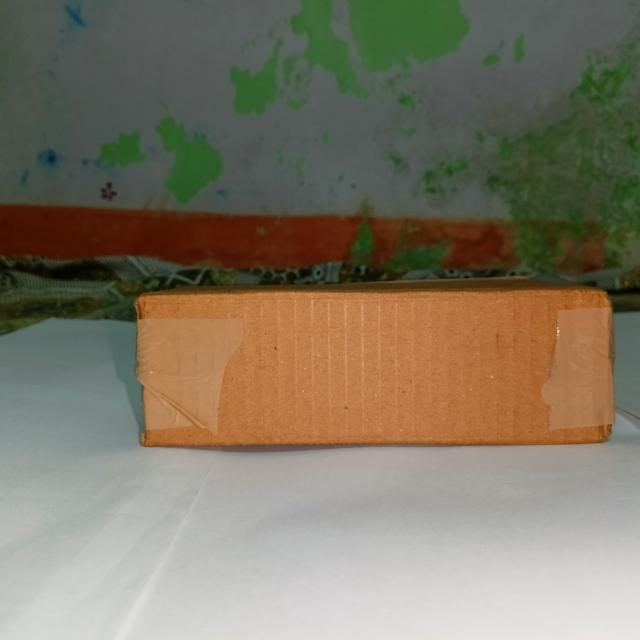box: (135, 291, 609, 442)
